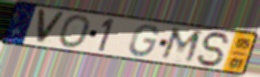1: (98, 18, 116, 53)
G: (128, 24, 161, 58)
M: (158, 25, 205, 66)
O: (56, 14, 92, 50)
S: (196, 31, 233, 69)
V: (36, 8, 67, 46)
